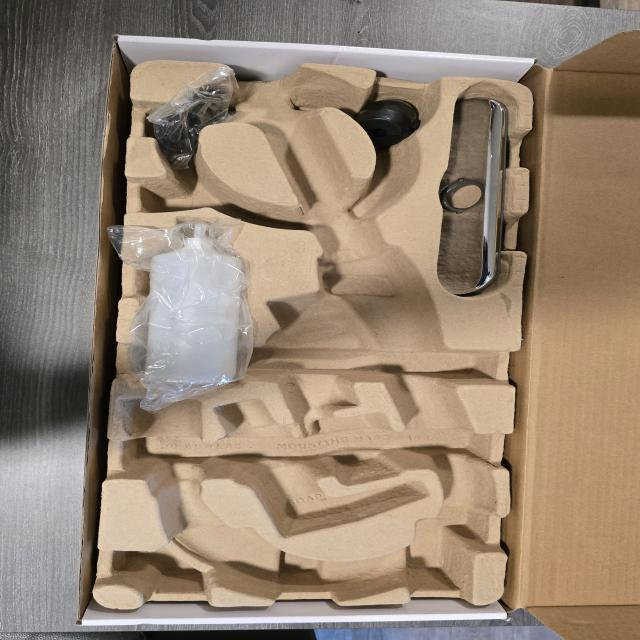1m: (124, 67, 497, 602)
2m: (210, 400, 430, 535)
3: (143, 219, 246, 386)
4: (438, 98, 507, 296)
5: (361, 99, 423, 143)
6m: (135, 175, 270, 221)
7: (144, 66, 243, 169)
